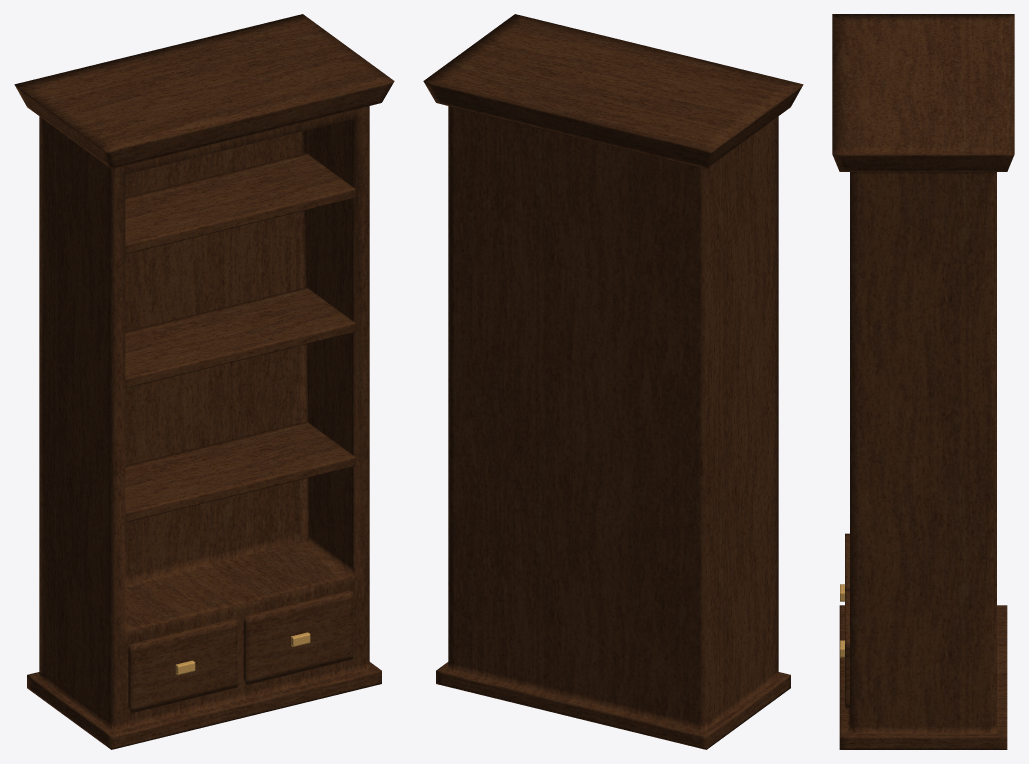
Rendered from stand.003.fbx.
The picture shows the model from 3 angles, left to right: view 1: azimuth 30°, elevation 25°; view 2: azimuth 150°, elevation 25°; view 3: azimuth 270°, elevation 25°; orthographic projection.
Visible parts, largest first — view 1: Base, Platform.002, Platform.003, Platform.001, Drawer.002, Drawer.001; view 2: Base; view 3: Base, Drawer.002.
Boxes of the visible parts, x1,y1,x2,y2 form: Base: (14,14,394,749); Platform.002: (125,287,355,388); Platform.003: (125,153,355,254); Platform.001: (125,421,355,522); Drawer.002: (243,590,352,685); Drawer.001: (128,619,237,713); Base: (423,14,803,749); Base: (832,14,1014,749); Drawer.002: (845,589,849,708).
Bounding box in the file's own units: 67.57 × 135 × 37.2.
